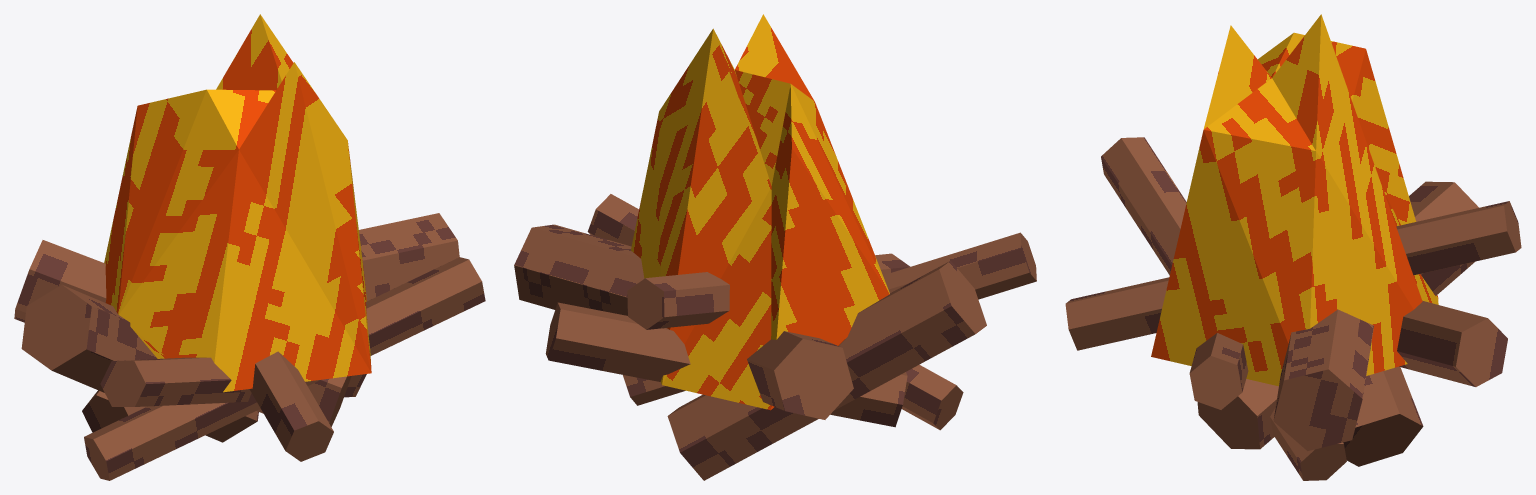
File: fire.glb
The picture shows the model from 3 angles, left to right: view 1: azimuth 30°, elevation 25°; view 2: azimuth 150°, elevation 25°; view 3: azimuth 270°, elevation 25°; orthographic projection. The views are drawn at different scales.
Parts seen in each view (by area): view 1: fire; view 2: fire; view 3: fire.
Boxes of the visible parts, x1=… form: fire: x1=14, y1=14, x2=485, y2=480; fire: x1=514, y1=14, x2=1036, y2=480; fire: x1=1065, y1=14, x2=1521, y2=480.
Size of the model in its own units: 0.617 by 0.588 by 0.5247.
2 materials, 2 textured.
